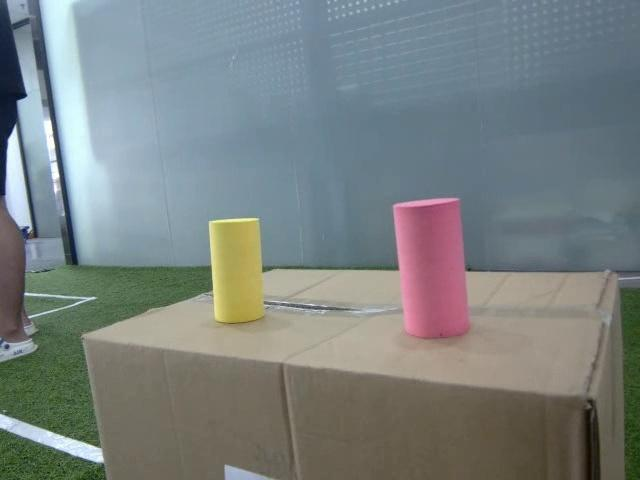red_cylinder: (392, 196, 469, 339)
yellow_cylinder: (208, 217, 264, 324)
